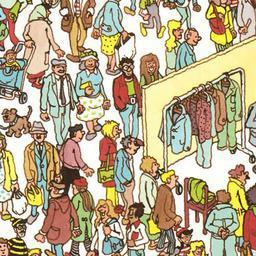waldo: (171, 223, 196, 256)
